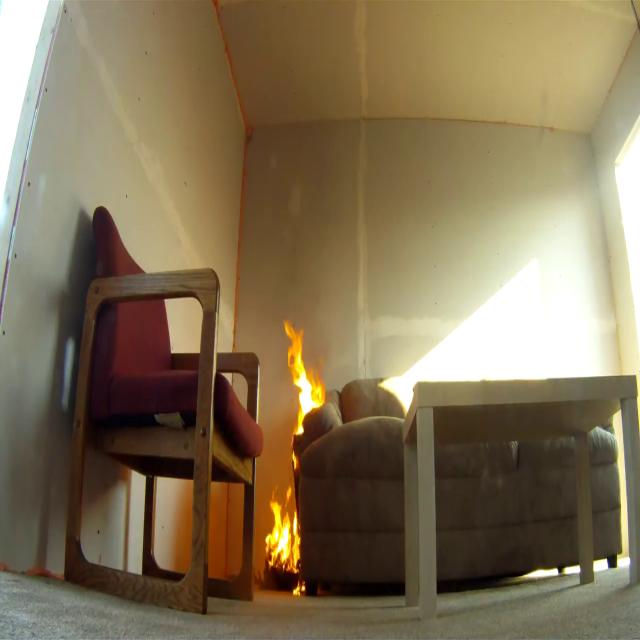fire: (280, 314, 328, 443), (262, 488, 307, 601)
